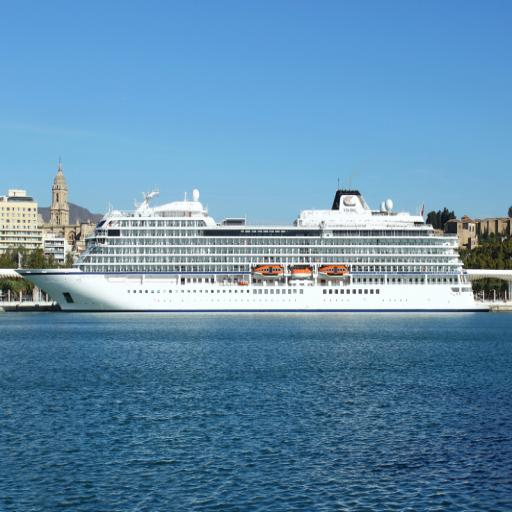cruises: (13, 185, 495, 317)
